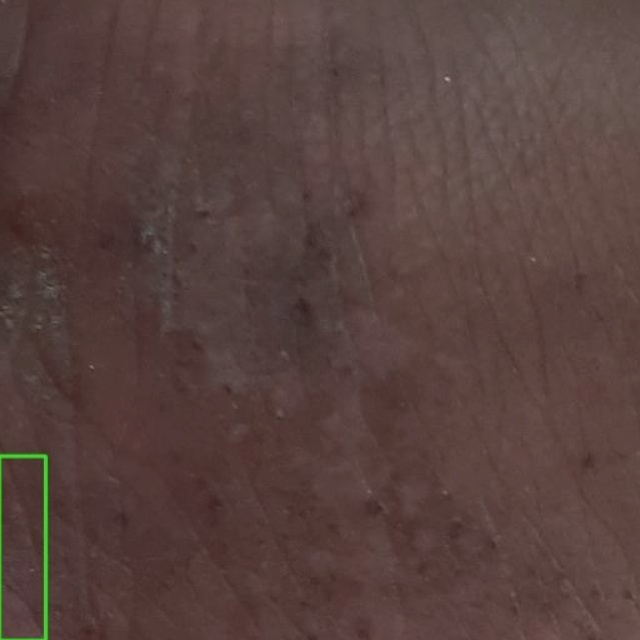Eczema: (0, 456, 45, 639)
